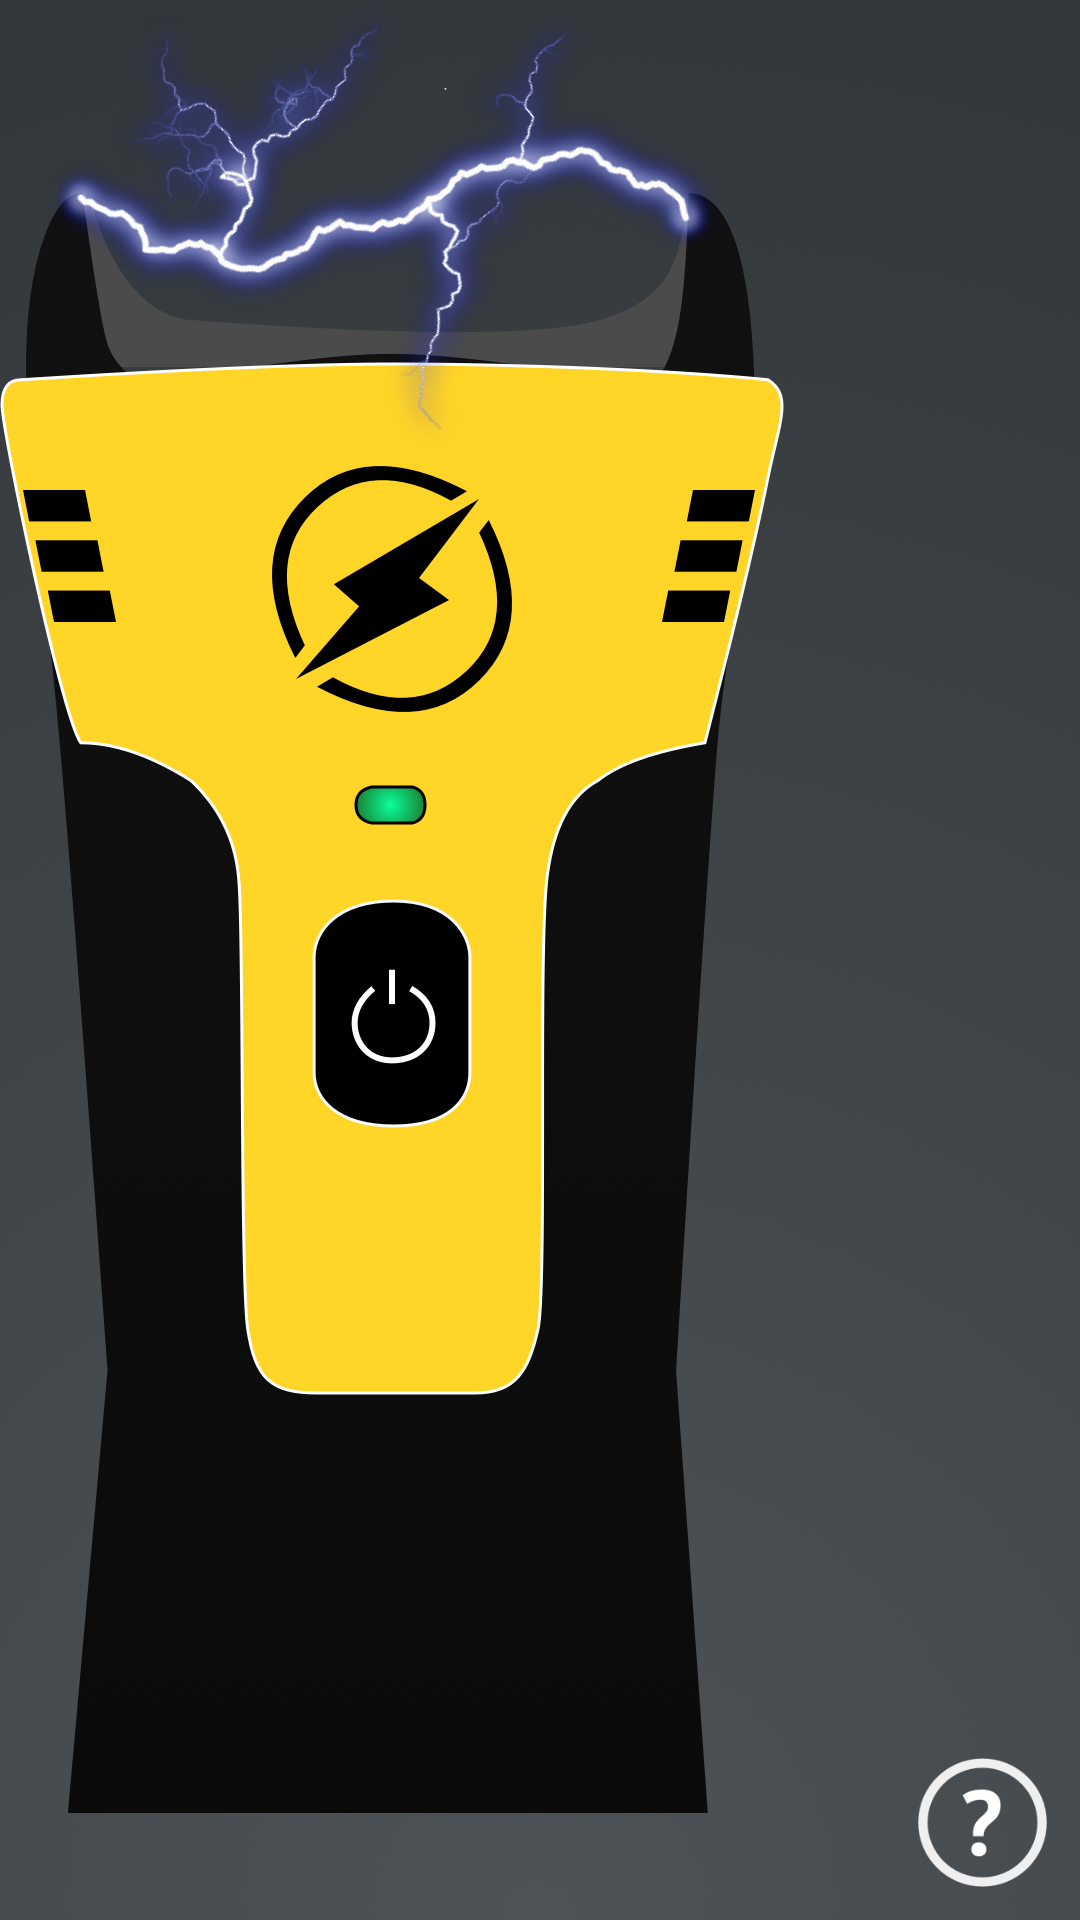

Named icons in this screenshot (1080 × 1920) and their bounding boxes, {"x1": x1, "y1": y1, "x2": x2, "y2": y2}:
question: {"x1": 918, "y1": 1758, "x2": 1047, "y2": 1887}
